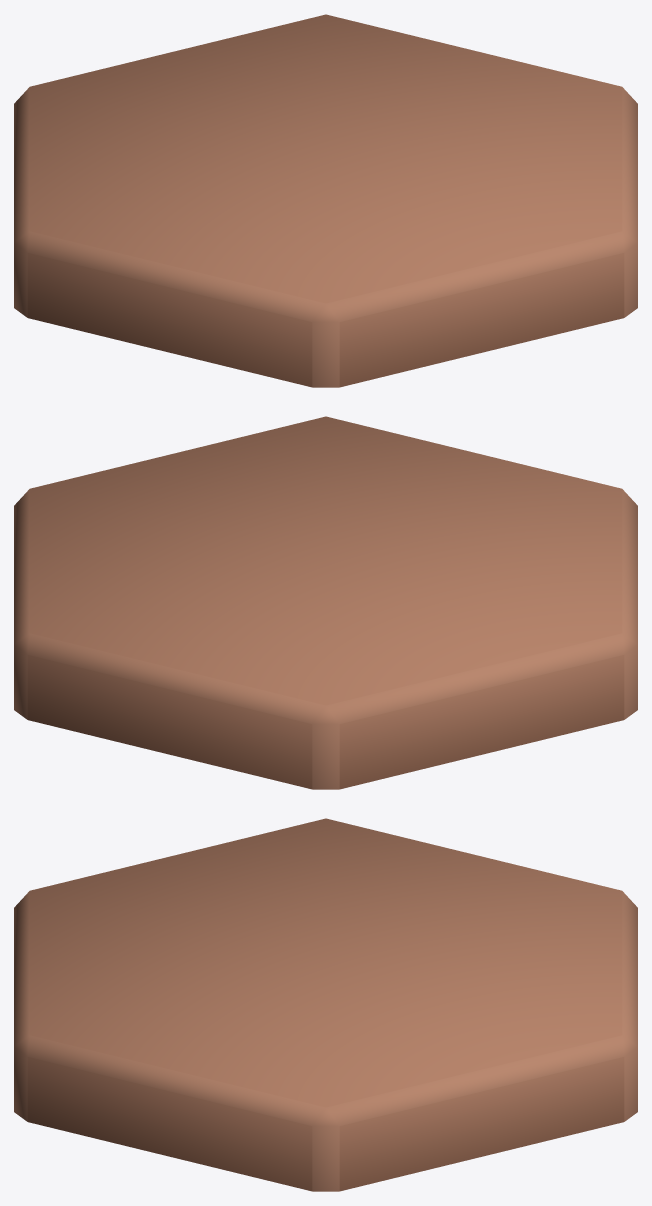
The model's file is bavel_small_spot_brown.fbx.
3 views of the same model, one above another, from view 1: azimuth 30°, elevation 25°; view 2: azimuth 150°, elevation 25°; view 3: azimuth 270°, elevation 25° (orthographic).
Visible parts, largest first — view 1: bavel_small_spot_brown; view 2: bavel_small_spot_brown; view 3: bavel_small_spot_brown.
Part boxes in pixels (x1,y1,x2,y2): bavel_small_spot_brown: (14,14,637,387); bavel_small_spot_brown: (14,416,637,789); bavel_small_spot_brown: (14,818,637,1191).
Bounding box in the file's own units: 161 × 20.07 × 143.
Materials: 1 (1 with a texture image).
